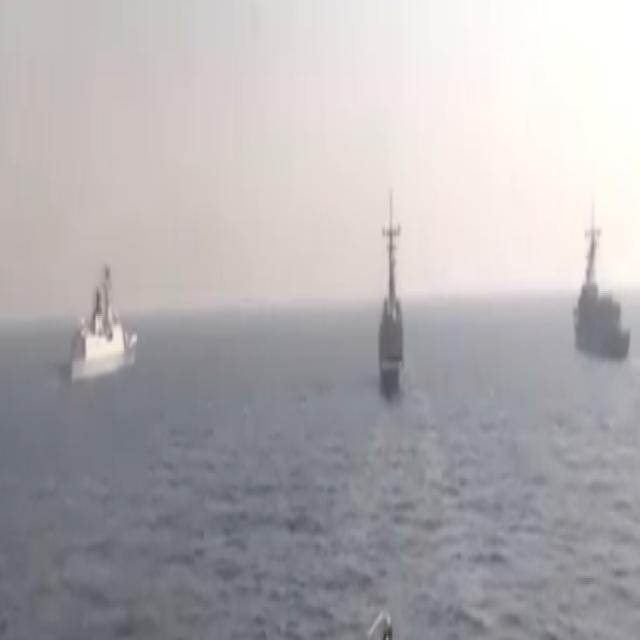navalvessels: (53, 258, 136, 396), (574, 192, 634, 364), (374, 178, 409, 395)
